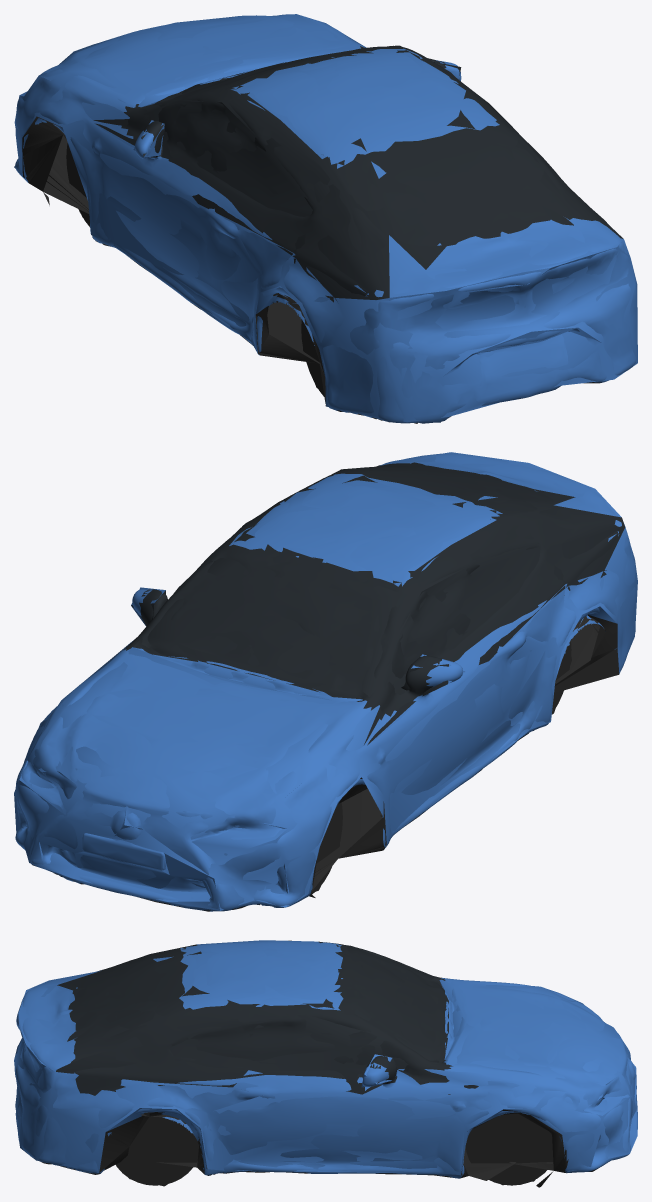
The model's file is lexus-rc-f.glb.
3 views of the same model, one above another, from view 1: azimuth 30°, elevation 25°; view 2: azimuth 150°, elevation 25°; view 3: azimuth 270°, elevation 25° (orthographic). The views are drawn at different scales.
Parts seen in each view (by area): view 1: body, far; view 2: body, far; view 3: body, far.
Boxes of the visible parts, box(x1,y1,x2,y2) form: body: box(15, 14, 637, 423); far: box(14, 14, 637, 422); body: box(15, 453, 636, 911); far: box(14, 452, 637, 910); body: box(14, 940, 637, 1187); far: box(14, 940, 637, 1186).
Bounding box in the file's own units: 2.19 × 1.51 × 4.76.
